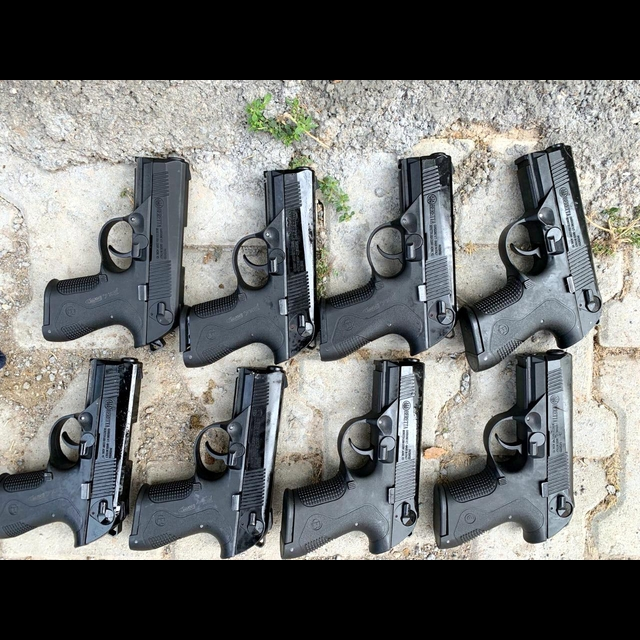SILAH: (458, 139, 604, 356), (319, 150, 458, 358), (281, 363, 424, 555), (41, 152, 177, 353), (440, 357, 583, 548), (138, 365, 281, 555), (188, 158, 317, 365), (2, 358, 126, 549)
